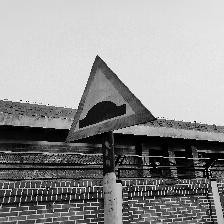Speed-breaker: (64, 55, 158, 142)
